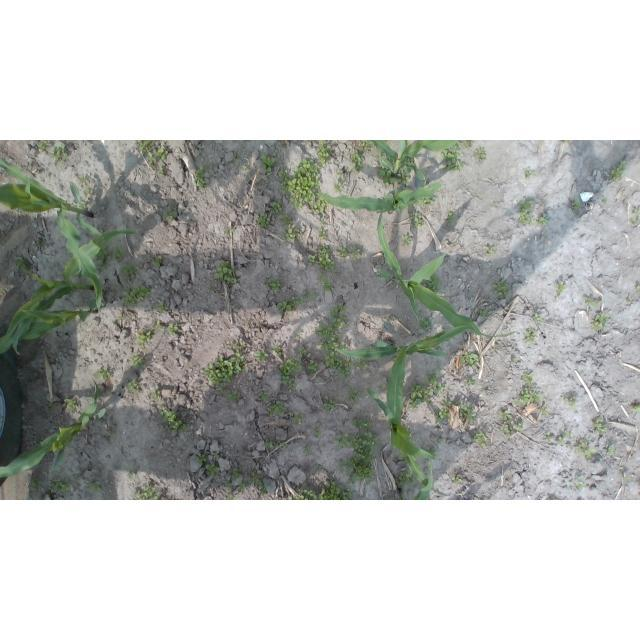Maize: (375, 211, 517, 341), (1, 229, 136, 356), (0, 158, 104, 310), (0, 379, 106, 478), (365, 386, 443, 496), (333, 326, 473, 357), (315, 181, 442, 213), (370, 141, 458, 186), (0, 305, 96, 343), (409, 460, 434, 501)
Weeds: (278, 158, 327, 214), (202, 351, 247, 388), (313, 323, 349, 352), (353, 431, 381, 467), (324, 352, 351, 381), (319, 480, 358, 500), (279, 356, 302, 388), (158, 406, 185, 432), (406, 382, 431, 409), (123, 284, 152, 306), (441, 147, 465, 173), (213, 261, 239, 284), (317, 244, 336, 273), (276, 295, 305, 314), (515, 389, 542, 408), (349, 467, 376, 486), (576, 439, 599, 461), (426, 371, 446, 396), (329, 303, 348, 329), (248, 473, 270, 495), (422, 271, 441, 294), (492, 279, 512, 300), (134, 484, 159, 500), (349, 416, 374, 432), (377, 167, 396, 188), (518, 199, 533, 225), (436, 399, 452, 423), (50, 144, 69, 164), (146, 148, 167, 166), (395, 470, 416, 488), (317, 140, 332, 165), (260, 155, 277, 177), (288, 488, 319, 500), (592, 312, 612, 330), (336, 456, 357, 473), (49, 477, 71, 493), (610, 161, 626, 183), (283, 224, 301, 243), (135, 328, 152, 348), (194, 166, 209, 188), (268, 401, 285, 420), (351, 150, 365, 173), (592, 415, 608, 435), (460, 403, 476, 423), (336, 431, 353, 449), (461, 350, 480, 366), (472, 431, 489, 448), (121, 261, 137, 279), (128, 353, 144, 370), (113, 245, 128, 263), (396, 168, 411, 186), (334, 168, 345, 192), (264, 441, 288, 452), (256, 212, 272, 228), (409, 212, 424, 229), (347, 388, 362, 405), (136, 140, 157, 152), (95, 245, 113, 259), (556, 280, 569, 299), (418, 317, 433, 333), (220, 386, 236, 401), (520, 370, 535, 386), (163, 206, 177, 223), (584, 296, 603, 308), (87, 476, 101, 492), (265, 277, 280, 291), (270, 199, 284, 214), (96, 366, 110, 381), (474, 147, 487, 163), (524, 328, 536, 345), (126, 379, 140, 393), (65, 397, 79, 411), (255, 349, 269, 363), (324, 396, 337, 411), (499, 423, 511, 439), (231, 468, 244, 482), (155, 302, 169, 315), (414, 196, 434, 205), (292, 412, 305, 425), (166, 323, 179, 336), (196, 452, 209, 465), (538, 212, 550, 226), (206, 464, 220, 476), (14, 255, 26, 269), (498, 409, 513, 420), (447, 212, 457, 228), (575, 477, 587, 490), (511, 421, 525, 432), (354, 360, 368, 371), (94, 261, 108, 272), (524, 167, 536, 179), (150, 255, 162, 267), (307, 360, 318, 373), (337, 247, 349, 258), (279, 214, 292, 224), (632, 208, 640, 224), (458, 141, 472, 150), (402, 236, 412, 248), (151, 388, 161, 400), (404, 157, 416, 167), (464, 377, 476, 387), (104, 427, 116, 437), (322, 281, 334, 291), (568, 396, 577, 409), (384, 155, 395, 165), (571, 199, 581, 210), (317, 229, 327, 240), (427, 447, 438, 457), (82, 188, 94, 197), (76, 176, 88, 185), (36, 140, 48, 149), (312, 427, 322, 437), (259, 391, 269, 401), (316, 273, 327, 282), (308, 255, 317, 266), (298, 347, 307, 358), (607, 445, 616, 456), (274, 346, 283, 357), (484, 245, 496, 253), (231, 152, 239, 164), (352, 247, 361, 257), (237, 482, 247, 491), (80, 200, 90, 209), (451, 476, 463, 483), (304, 292, 314, 300), (225, 493, 236, 500), (535, 313, 542, 324), (557, 436, 565, 445), (480, 308, 488, 317), (541, 406, 548, 416), (224, 480, 232, 488), (154, 321, 162, 329), (437, 436, 444, 445), (623, 476, 632, 483), (223, 229, 235, 234), (436, 365, 444, 372), (319, 217, 326, 225), (129, 472, 137, 479), (400, 492, 407, 500), (304, 445, 311, 453), (633, 404, 640, 412), (32, 481, 37, 492), (295, 332, 301, 341), (546, 433, 552, 442), (563, 429, 569, 438), (158, 166, 164, 175), (229, 342, 236, 349), (242, 165, 249, 172), (240, 342, 247, 349), (376, 152, 382, 160), (600, 195, 606, 203), (37, 239, 44, 245), (636, 285, 640, 294), (511, 358, 517, 364), (626, 295, 632, 301), (207, 286, 213, 291), (399, 454, 403, 461), (317, 465, 324, 469), (563, 141, 572, 144), (495, 344, 500, 349), (405, 427, 410, 432)
